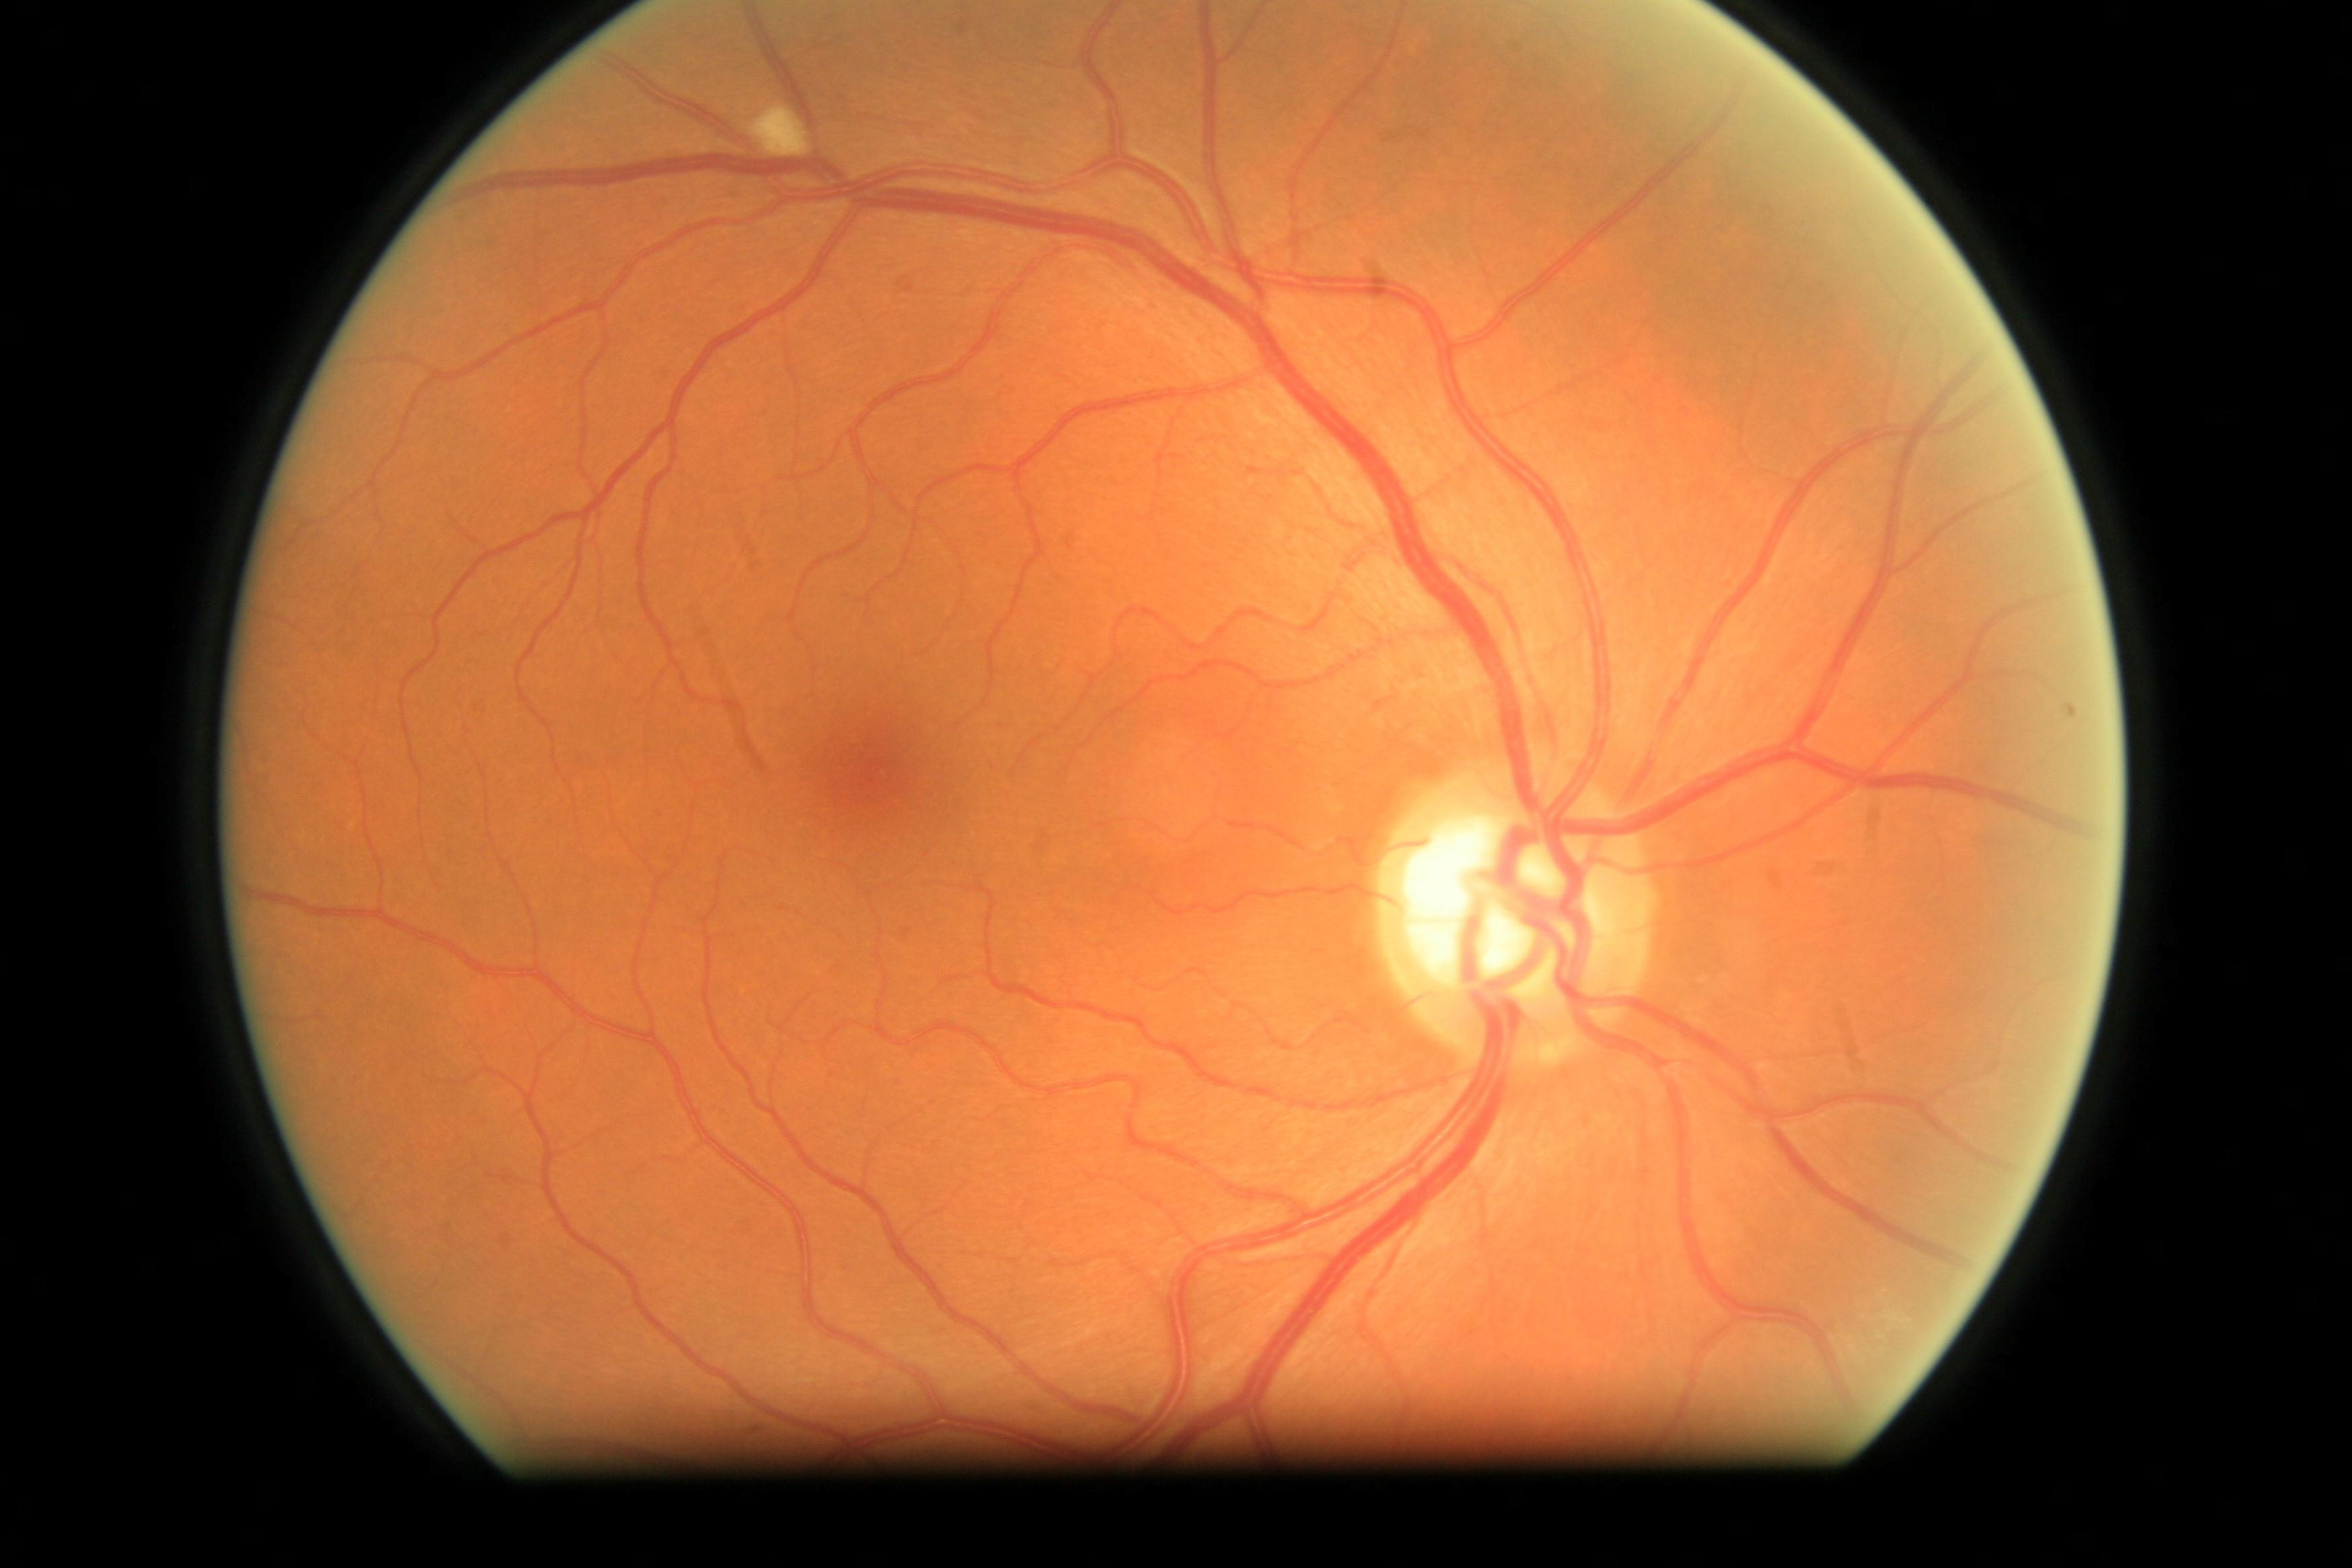Optic-nerve: (1359, 758, 1661, 1067)
macula: (705, 614, 1054, 898)
